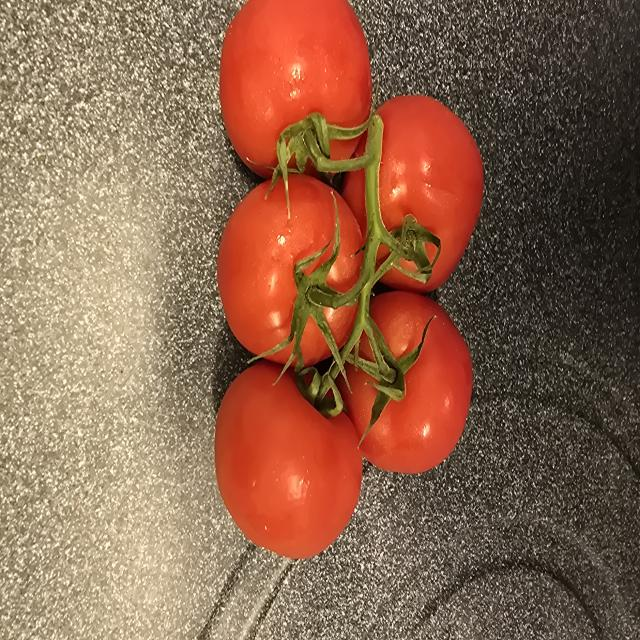Tomato: (215, 361, 362, 559), (344, 97, 484, 293), (216, 175, 359, 364), (220, 0, 371, 178), (341, 291, 472, 473)
